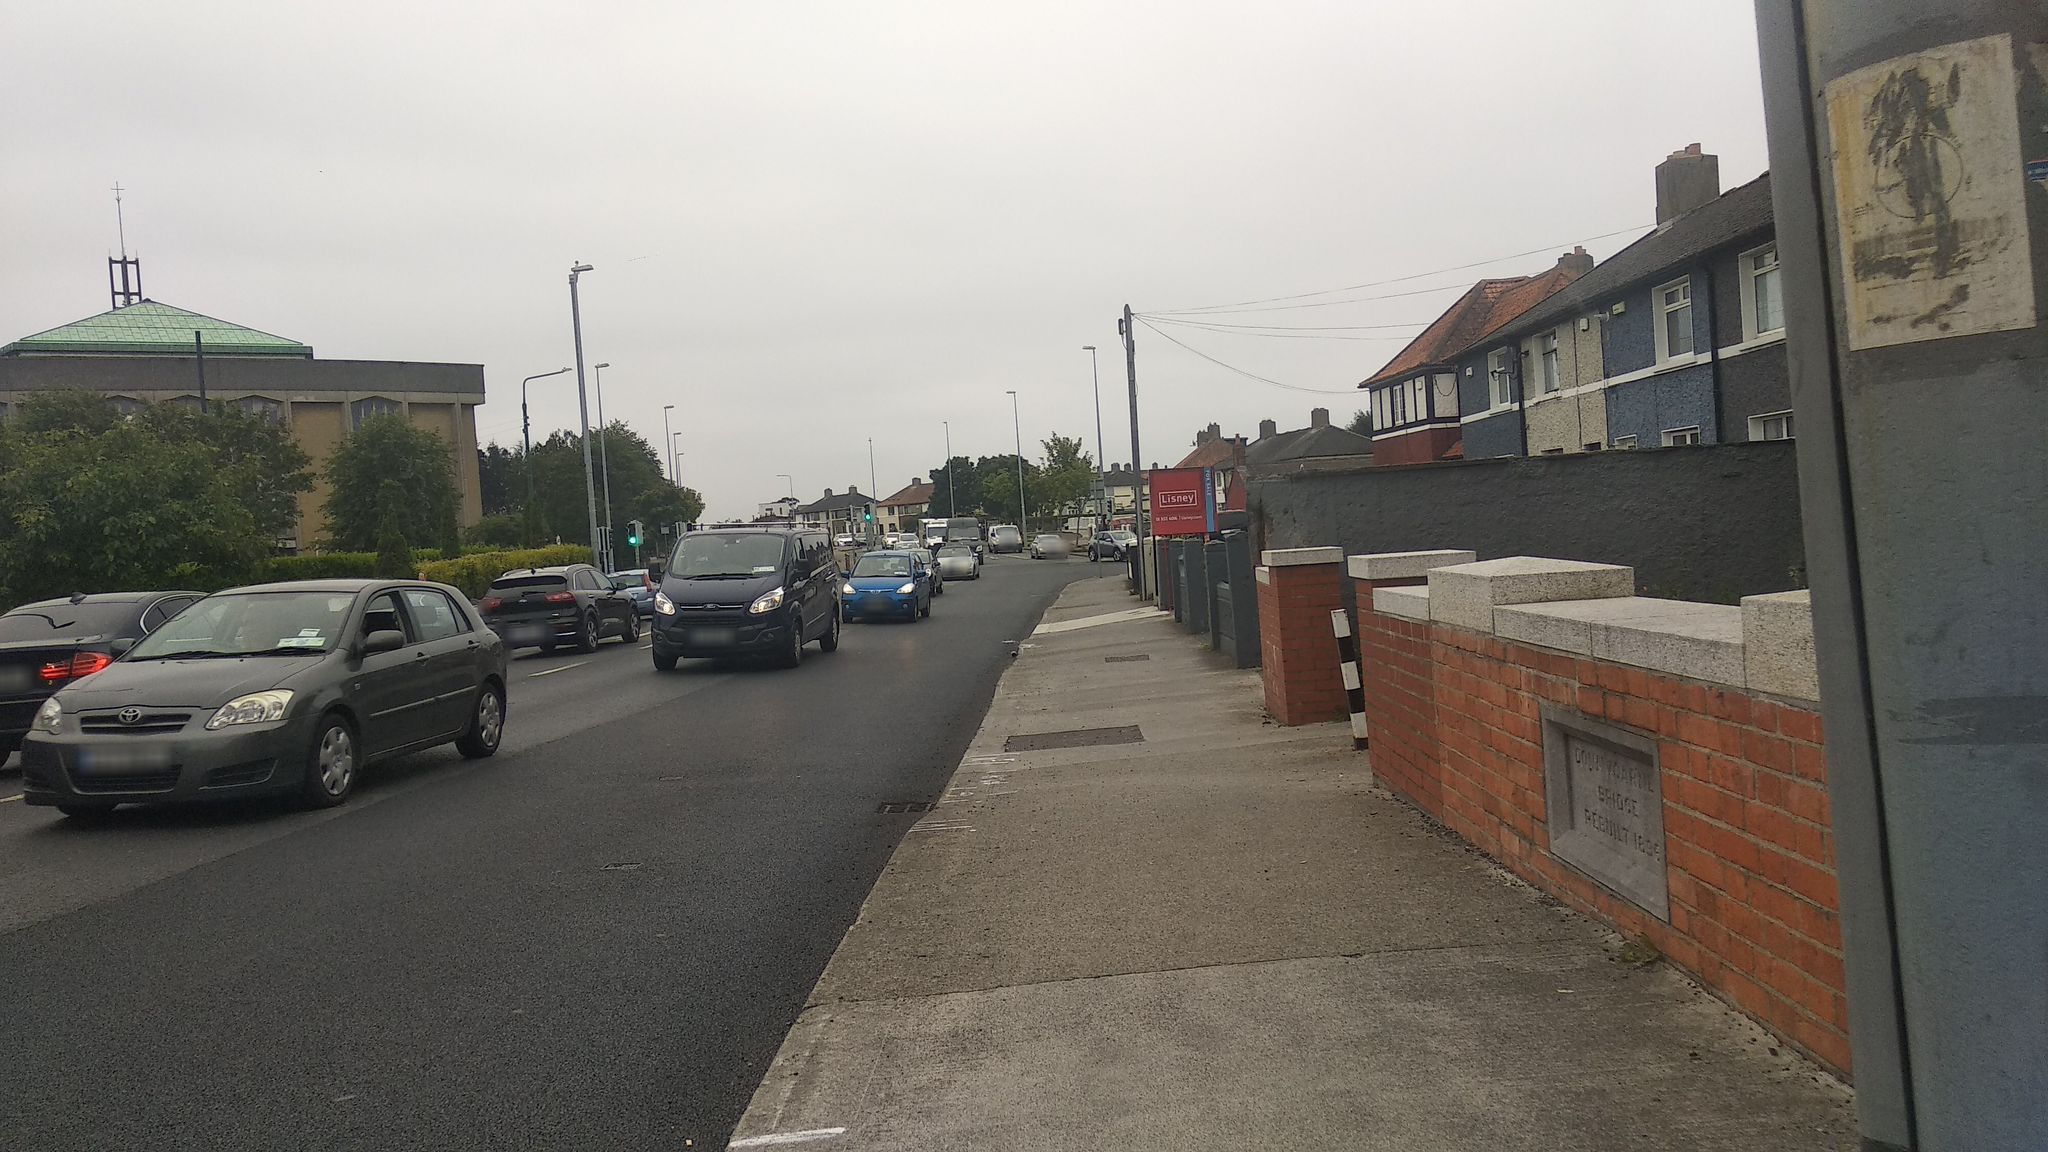property sign: (1125, 437, 1222, 554)
